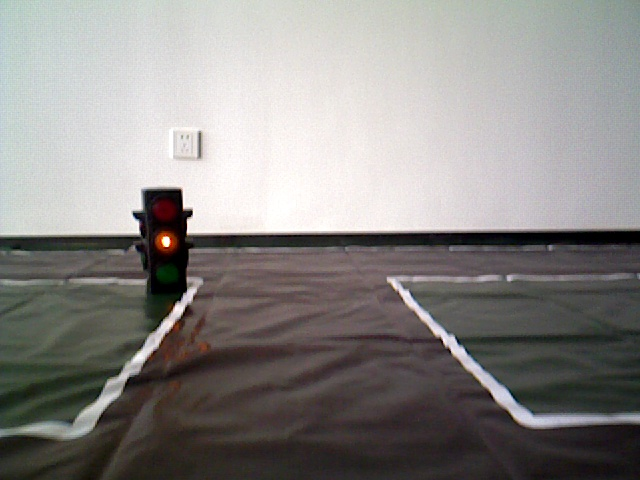yellow: (138, 185, 189, 292)
